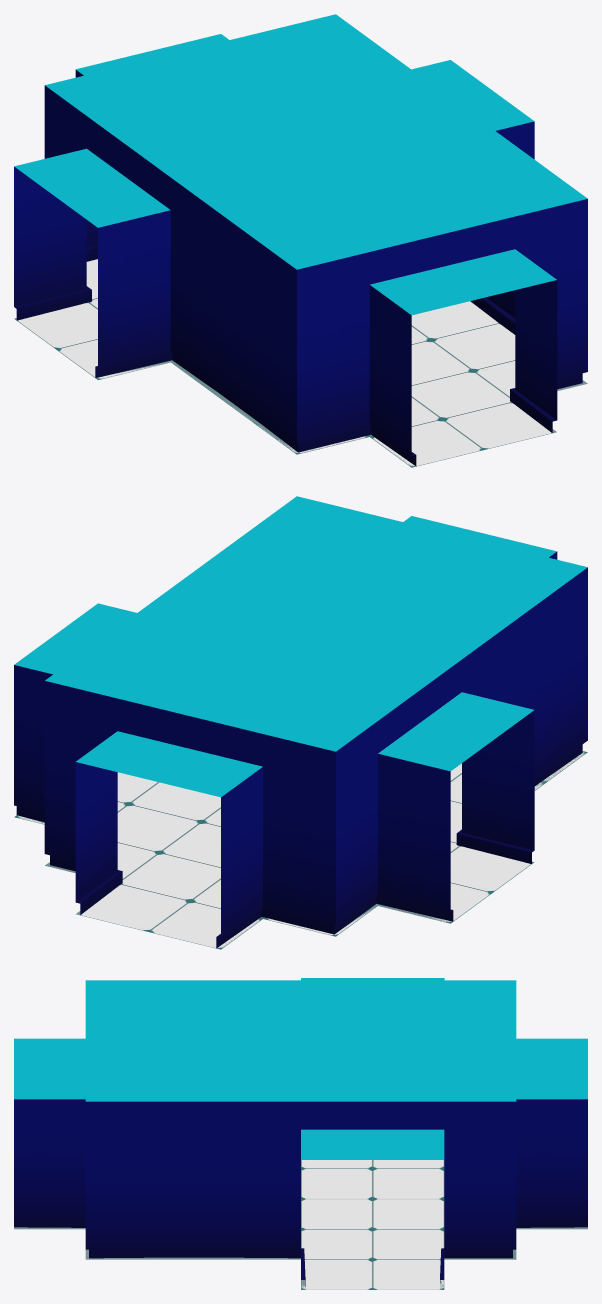
File: Corredor3Saidas.fbx
The picture shows the model from 3 angles, top to bottom: view 1: azimuth 30°, elevation 25°; view 2: azimuth 150°, elevation 25°; view 3: azimuth 270°, elevation 25°; orthographic projection. The views are drawn at different scales.
Visible parts, largest first — view 1: Corredor3Saidas; view 2: Corredor3Saidas; view 3: Corredor3Saidas.
Part boxes in pixels (<box>): Corredor3Saidas: <box>14,14,587,467</box>; Corredor3Saidas: <box>14,496,587,949</box>; Corredor3Saidas: <box>14,978,587,1289</box>.
Bounding box in the file's own units: 600 × 243 × 800.
1 material, 1 textured.
